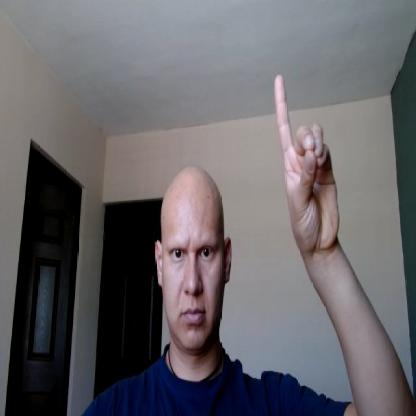D: (274, 74, 341, 254)
